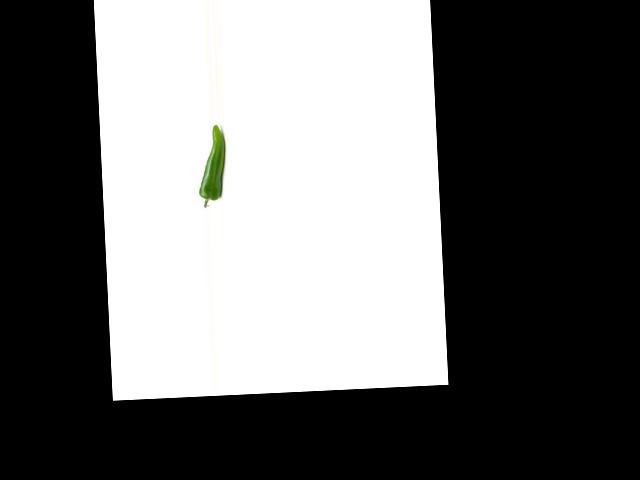bell_pepper: (194, 124, 230, 211)
